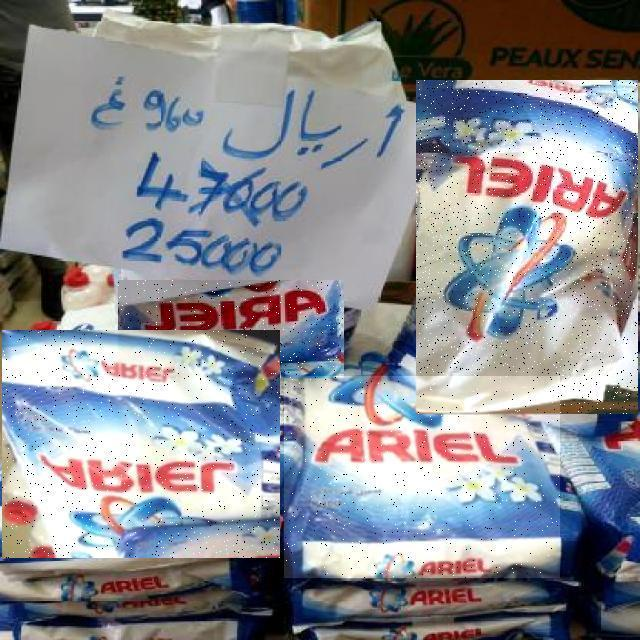Detergent: (417, 80, 639, 414), (2, 331, 280, 559), (285, 376, 561, 578), (118, 280, 344, 378)
